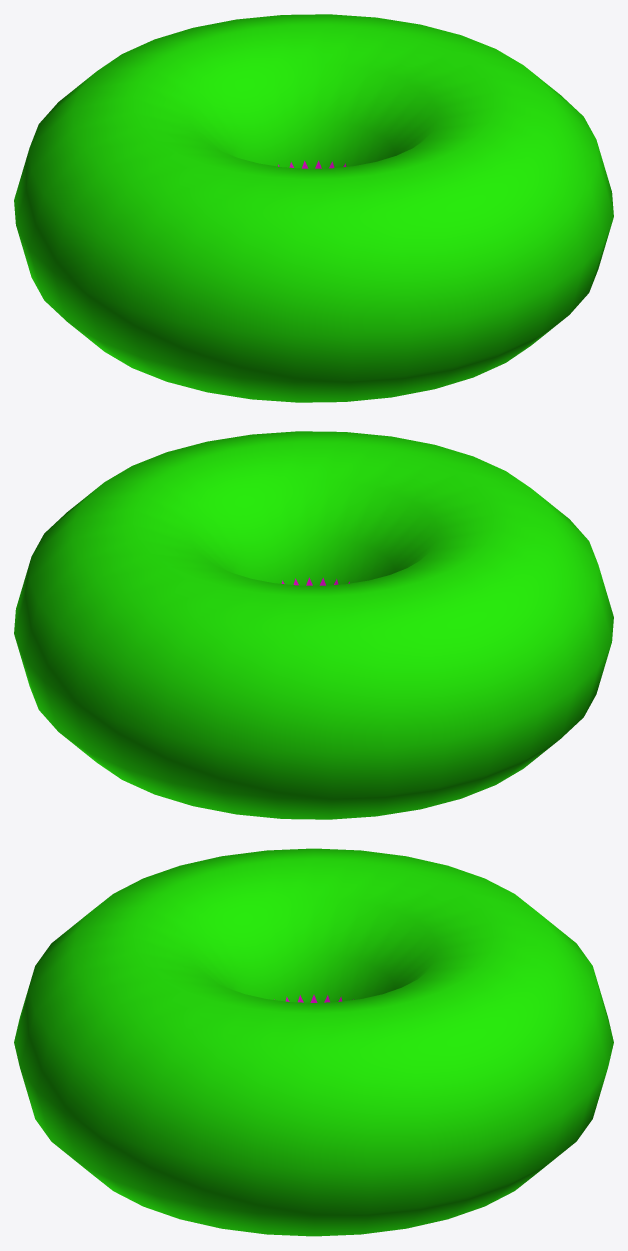
Rendered from donutEnemyBasicToxic.glb.
3 renders of one model, top to bottom at view 1: azimuth 30°, elevation 25°; view 2: azimuth 150°, elevation 25°; view 3: azimuth 270°, elevation 25°, orthographic.
Parts seen in each view (by area): view 1: Donut; view 2: Donut; view 3: Donut.
Boxes of the visible parts, left/top/right/bottom form: Donut: left=14, top=14, right=613, bottom=402; Donut: left=14, top=431, right=613, bottom=819; Donut: left=14, top=848, right=613, bottom=1236.
Size of the model in its own units: 1.28 by 0.5 by 1.28.
